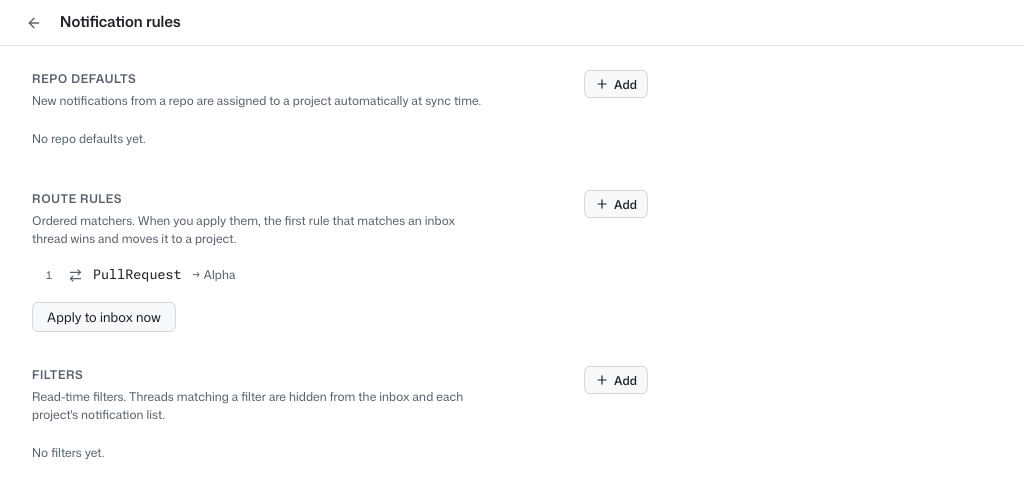
RulesView › applies route rules to the inbox and reports the count
Click the button "Apply to inbox now". click: [104, 317]
box: [32,302,176,332]
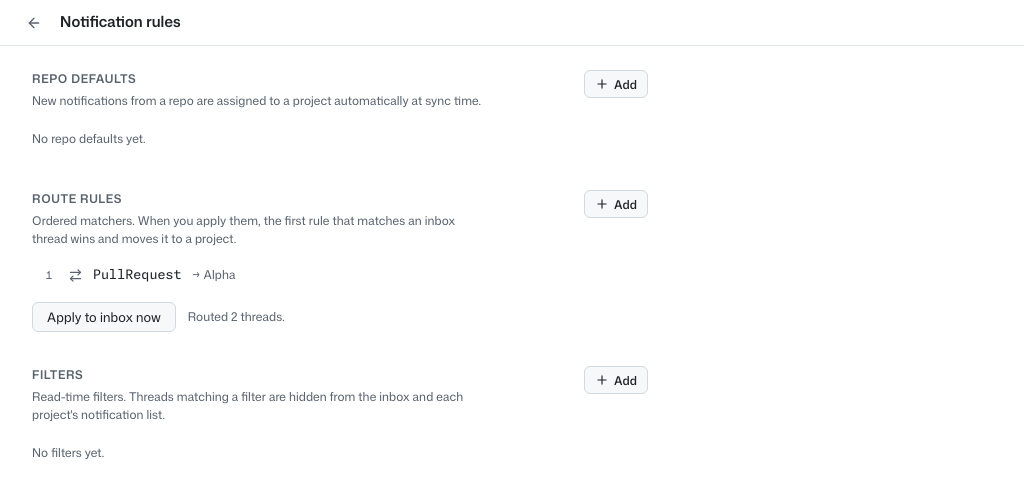
Expected: the text "Routed 2 threads." is shown, [188,308,285,326]
